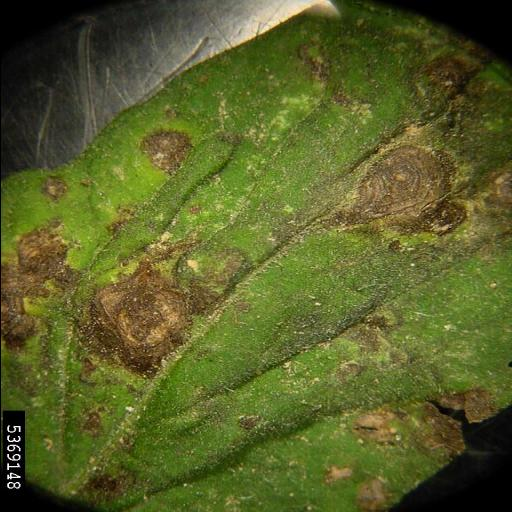disease_tomato: (0, 6, 510, 512)
